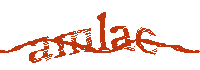a: (29, 35, 51, 65), (110, 24, 132, 54)
c: (135, 24, 161, 57)
l: (95, 9, 110, 52)
m: (52, 27, 92, 55)
